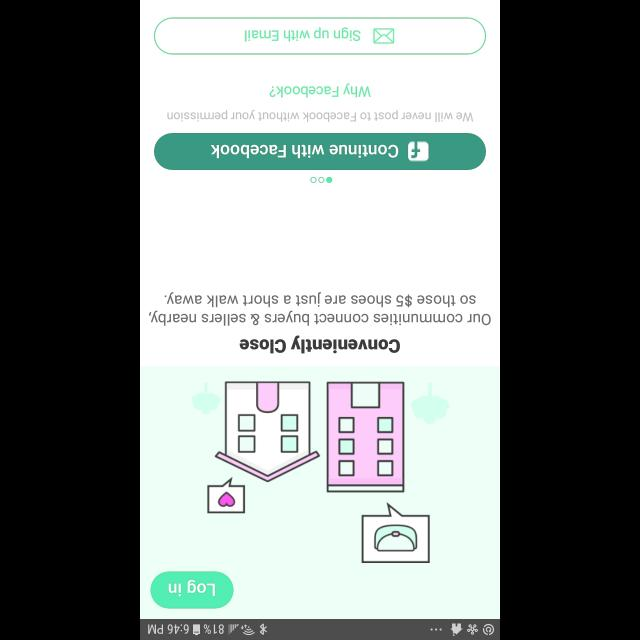image: (140, 366, 500, 618)
pageindicator: (310, 176, 332, 184)
text: (149, 292, 491, 326), (167, 110, 473, 122), (240, 334, 400, 354), (270, 82, 370, 98)
textbutton: (154, 133, 486, 171), (154, 18, 486, 54), (150, 571, 234, 609)
uppertaskbar: (140, 618, 500, 640)
